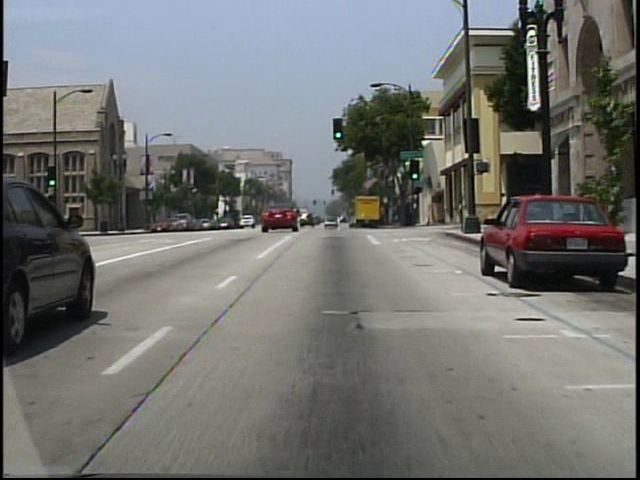person: (458, 199, 465, 225)
